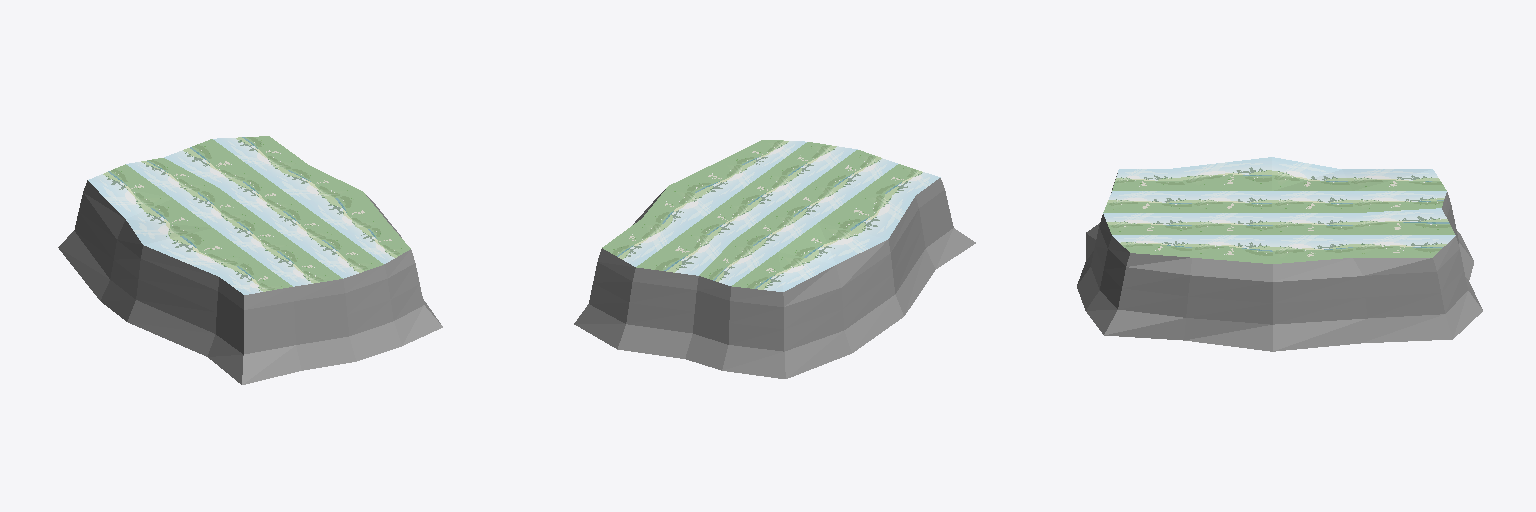
3 renders of one model, left to right at view 1: azimuth 30°, elevation 25°; view 2: azimuth 150°, elevation 25°; view 3: azimuth 270°, elevation 25°, orthographic.
Parts seen in each view (by area): view 1: Cube_Cube.001; view 2: Cube_Cube.001; view 3: Cube_Cube.001.
Part boxes in pixels (left/top/right/bottom): Cube_Cube.001: left=58, top=136, right=442, bottom=384; Cube_Cube.001: left=574, top=140, right=975, bottom=378; Cube_Cube.001: left=1077, top=157, right=1482, bottom=351.
Bounding box in the file's own units: 16.08 × 4.88 × 21.35.
Materials: 2 (1 with a texture image).